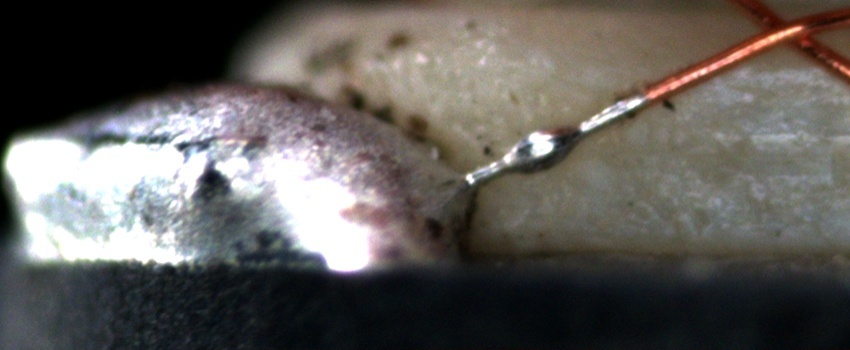CL: (741, 3, 837, 61)
DL: (579, 111, 850, 175), (506, 52, 850, 96)
TB: (502, 115, 587, 177)
TS: (469, 92, 648, 184)
TTCW: (464, 64, 693, 187)
